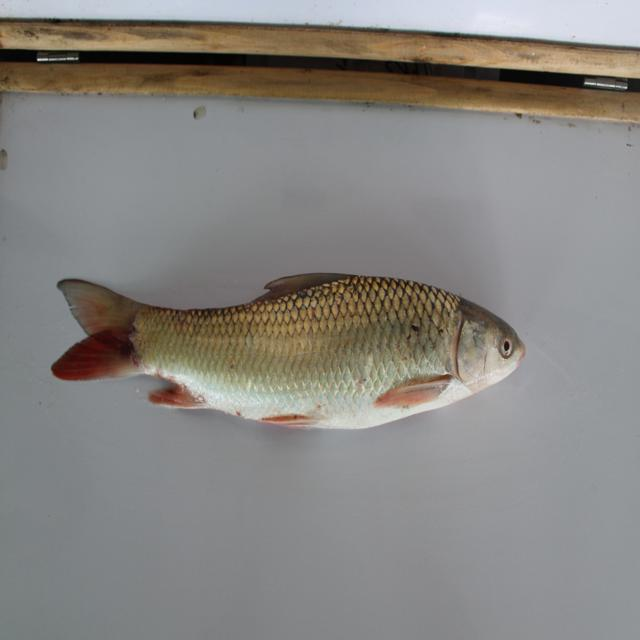Mori: (43, 264, 531, 459)
